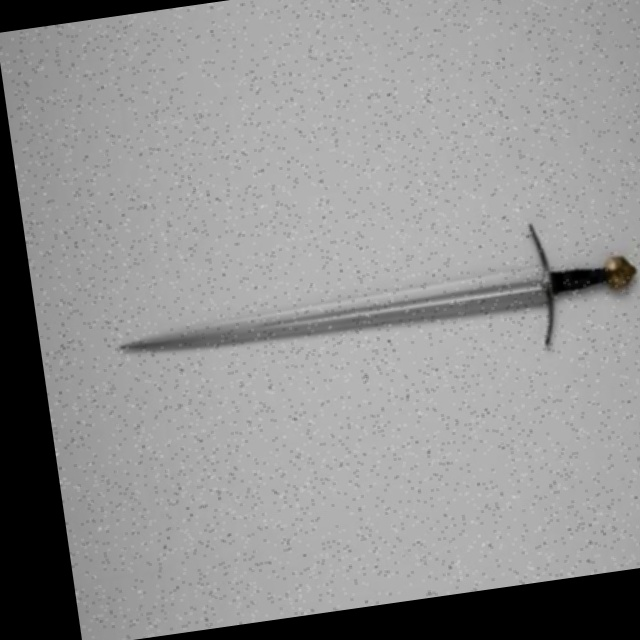Sharp-Object: (99, 237, 640, 377)
